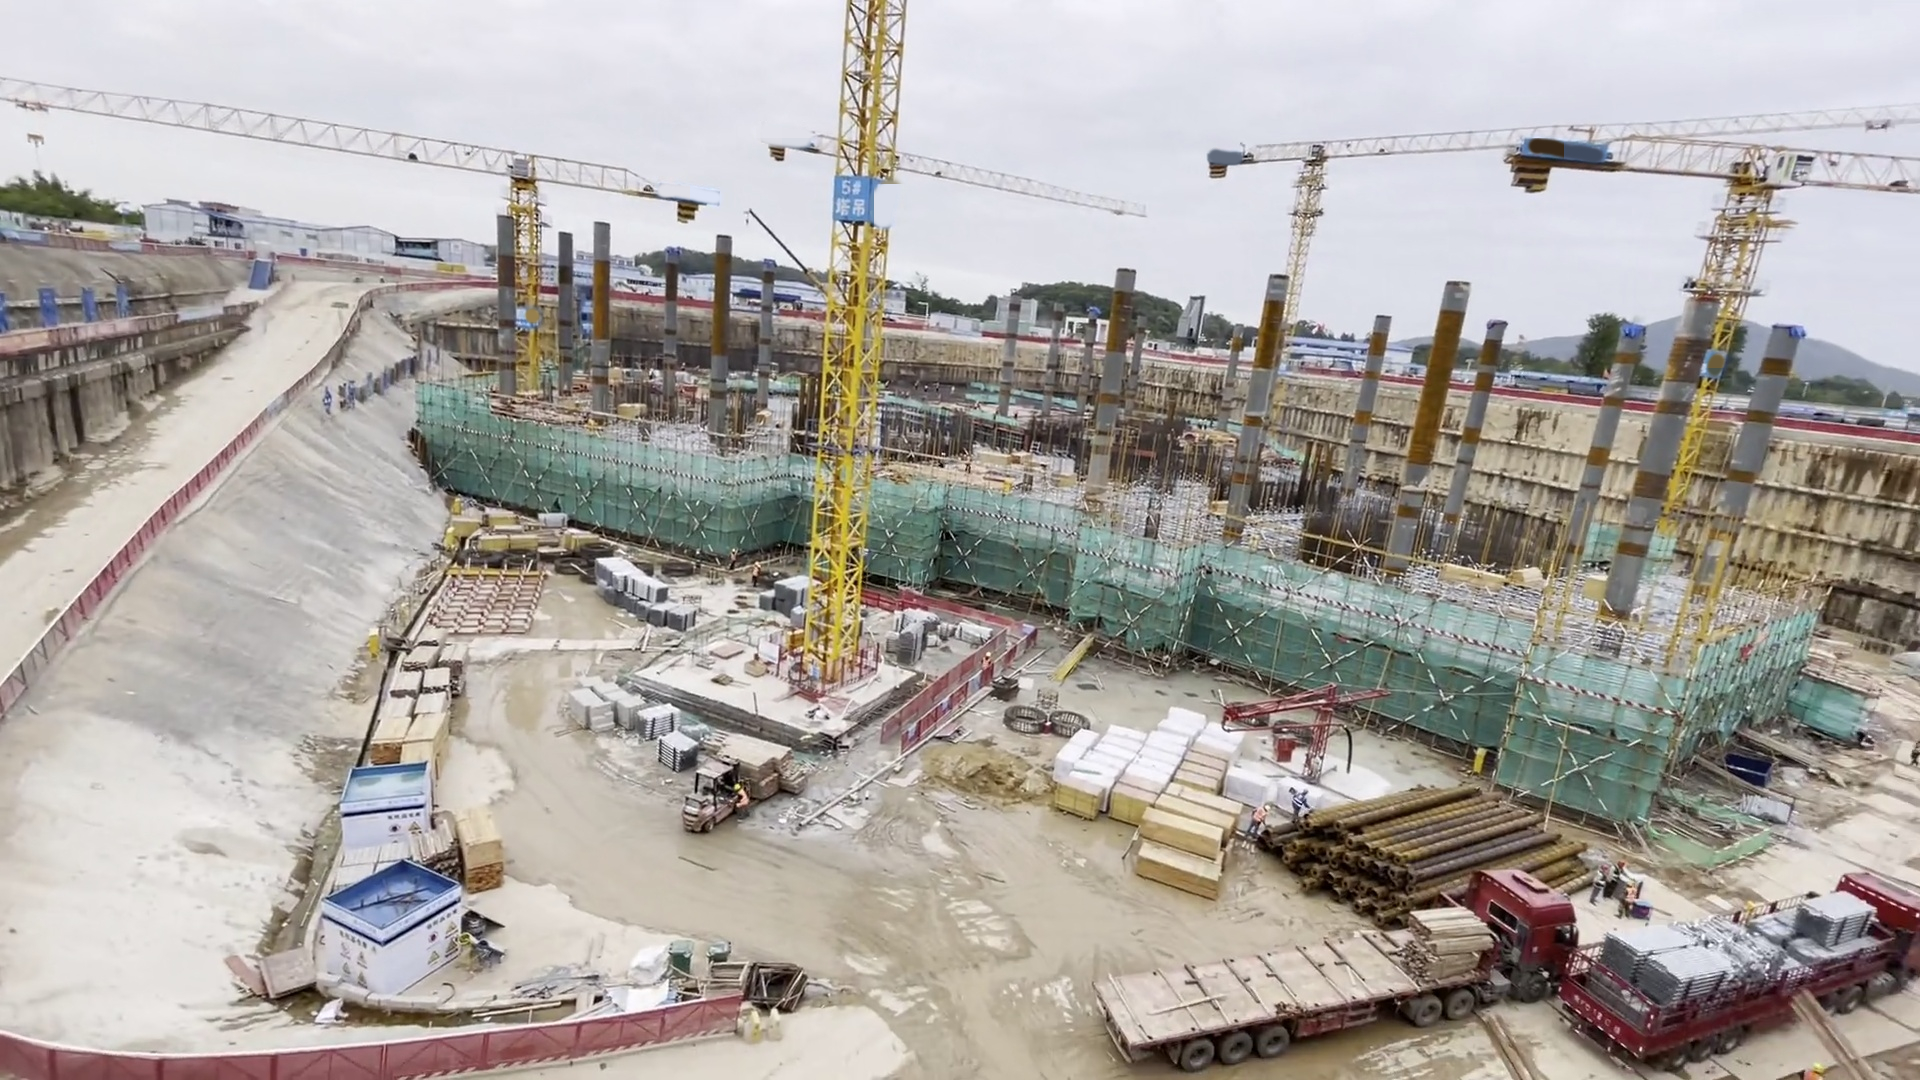board: (1173, 738, 1230, 792), (1110, 772, 1160, 822), (1053, 773, 1105, 820), (477, 528, 545, 555), (447, 510, 483, 540), (481, 506, 523, 532)
fence: (33, 1009, 732, 1071)
helmet: (1811, 1060, 1824, 1071), (1262, 803, 1272, 813), (1600, 863, 1610, 871), (1615, 858, 1625, 868), (732, 782, 742, 790), (984, 651, 992, 657)
person: (722, 779, 757, 823), (1246, 796, 1271, 847), (1288, 782, 1313, 828), (1590, 858, 1610, 908), (1610, 849, 1627, 899), (1624, 879, 1637, 930), (723, 542, 740, 572), (977, 648, 995, 675), (750, 560, 764, 588)
scaffold: (1603, 925, 1736, 1006), (1795, 894, 1878, 946), (656, 731, 699, 773), (636, 706, 683, 740)
vest: (734, 791, 750, 807), (1593, 872, 1608, 889), (1254, 808, 1265, 825), (1294, 794, 1306, 808), (1624, 889, 1636, 903), (981, 658, 991, 670)
wood: (1155, 787, 1243, 897), (1400, 909, 1493, 986), (459, 804, 508, 894), (732, 735, 801, 775)
